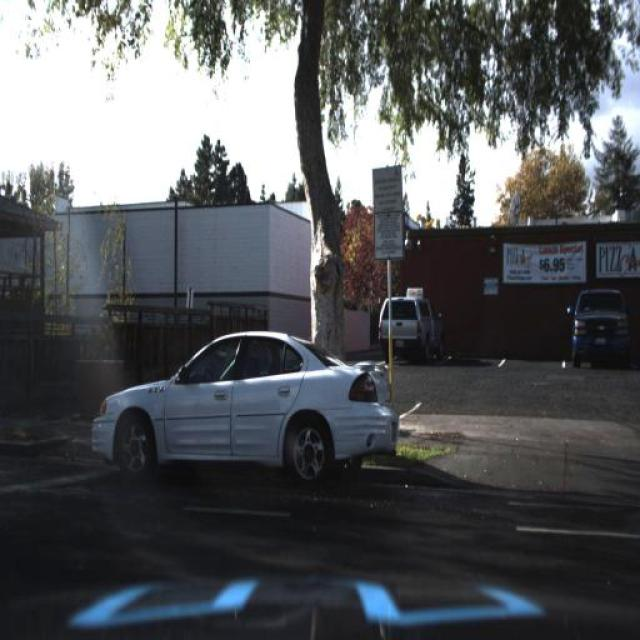car: (81, 297, 403, 503), (373, 288, 452, 362)
